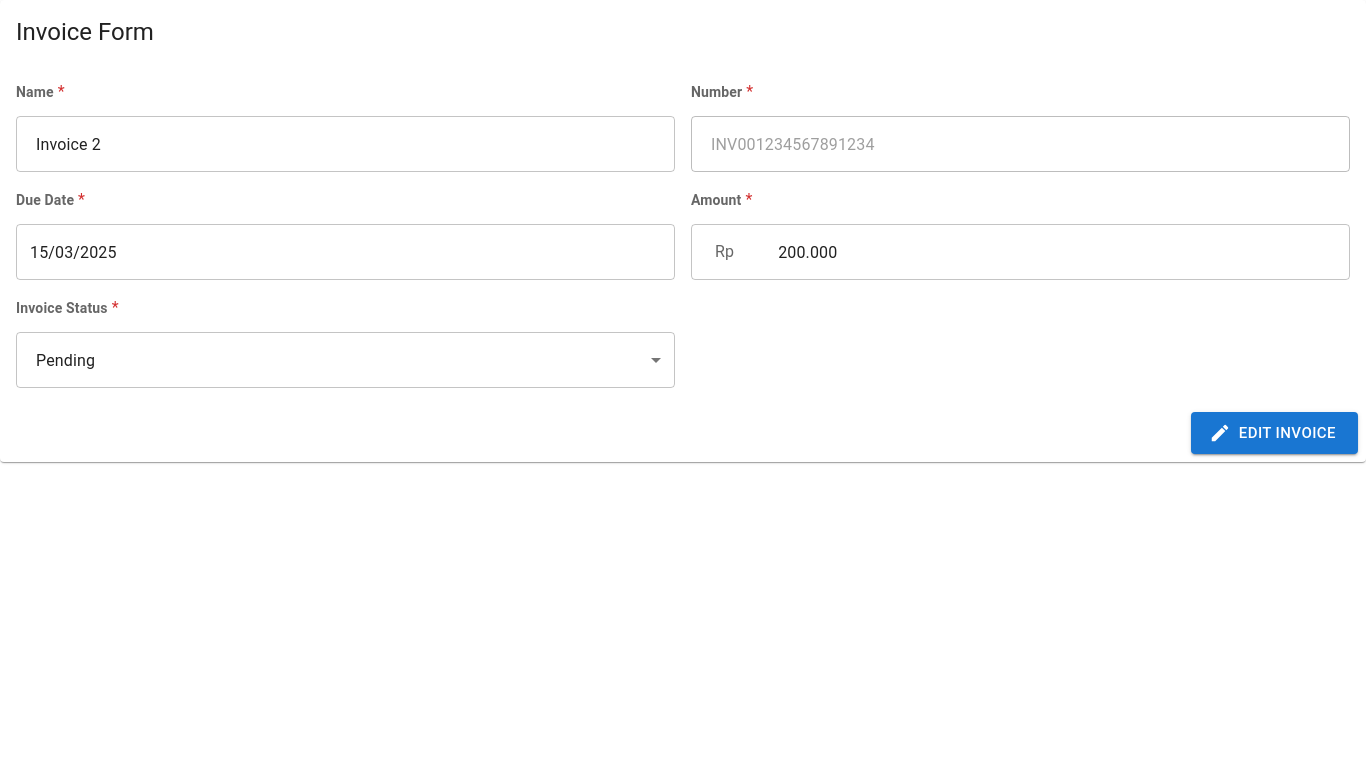
Test: InvoiceForm Component › submits the form when editing an invoice
This screenshot has width=1366, height=768.
Click the button "Edit Invoice": (1274, 433) [1191, 412, 1358, 454]
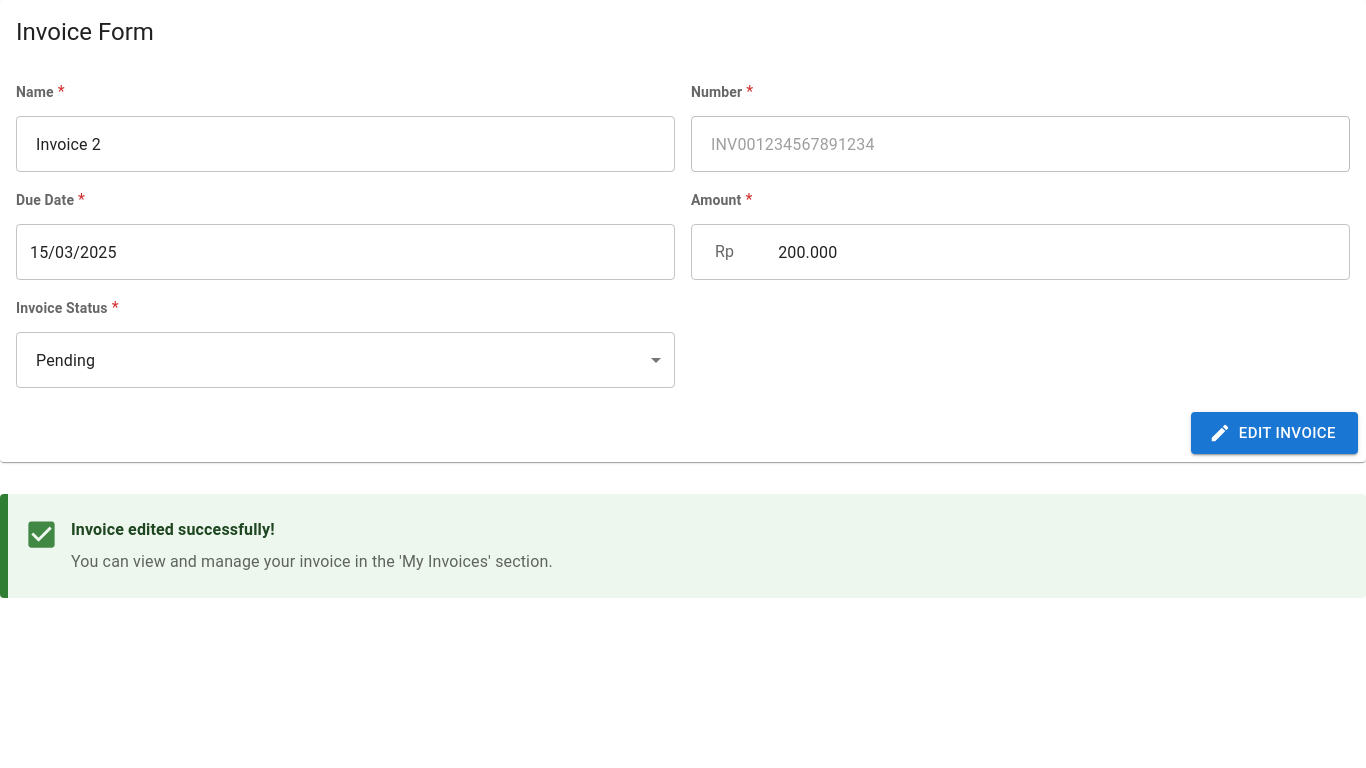
expect the text "Invoice edited successfully!" is shown: met, box [71, 520, 275, 539]
